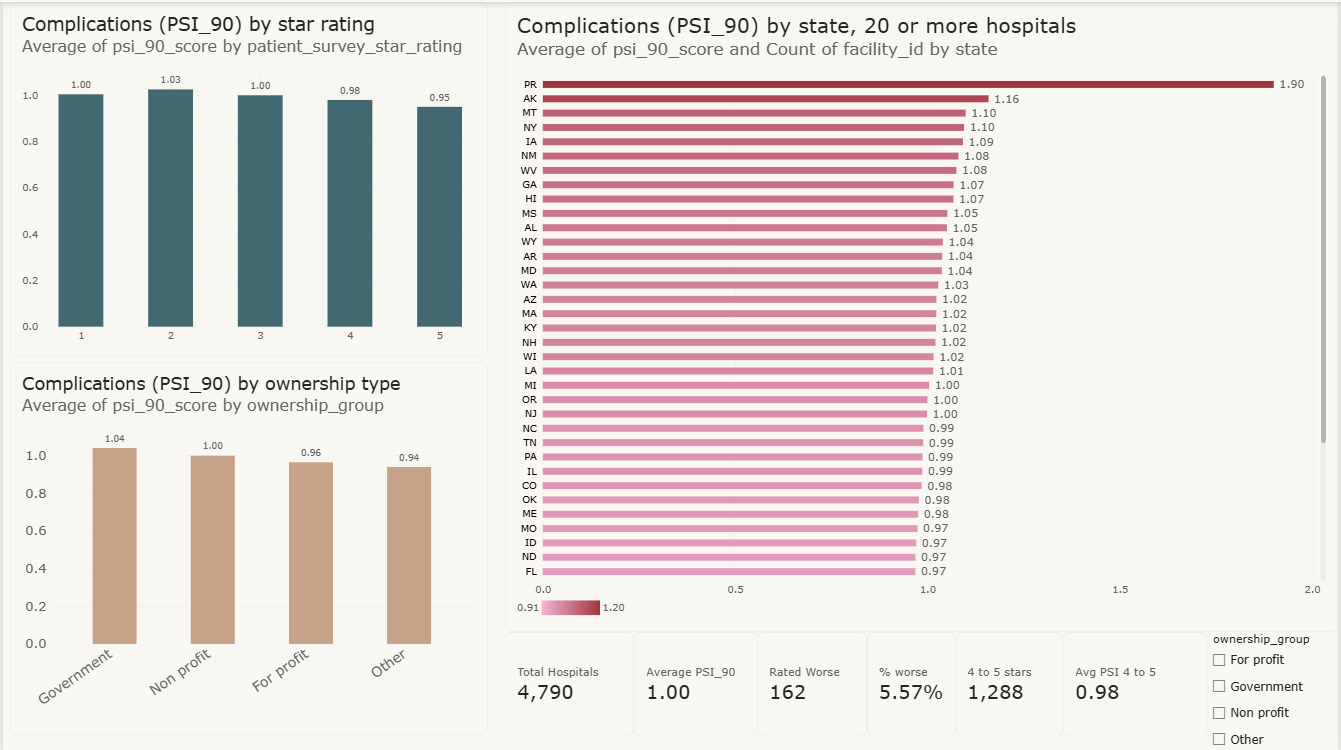

The dashboard page shown, as its layout file describes it:
{"tool":"powerbi","page":{"name":"Complications","canvas":[1920,1080],"ordinal":0},"visuals":[{"type":"clusteredColumnChart","title":"Complications (PSI_90) by star rating","fields":{"Category":["hospital_final csv.patient_survey_star_rating"],"Y":["Avg(hospital_final csv.psi_90_score)"]},"box":[11.3,0,686,510.2],"z":0},{"type":"clusteredColumnChart","title":"Complications (PSI_90) by ownership type","fields":{"Category":["hospital_final csv.ownership_group"],"Y":["Avg(hospital_final csv.psi_90_score)"]},"box":[11.3,518.7,686,535.8],"z":1000},{"type":"clusteredBarChart","title":"Complications (PSI_90) by state, 20 or more hospitals","fields":{"Category":["hospital_final csv.state"],"Y":["Avg(hospital_final csv.psi_90_score)"]},"box":[722.5,0,1197.5,905],"z":2000},{"type":"slicer","fields":{"Values":["hospital_final csv.ownership_group"]},"box":[1732.5,905,187.5,175],"z":3000},{"type":"cardVisual","fields":{"Data":["hospital_final csv.Total Hospitals Text"]},"box":[722.5,905,185,150],"z":4000},{"type":"cardVisual","fields":{"Data":["hospital_final csv.Average PSI Score"]},"box":[907.5,905,177.5,150],"z":5000},{"type":"cardVisual","fields":{"Data":["hospital_final csv.Worse Hospitals"]},"box":[1085,905,157.5,150],"z":6000},{"type":"cardVisual","fields":{"Data":["hospital_final csv.Pct Worse"]},"box":[1242.5,905,127.5,150],"z":7000},{"type":"cardVisual","fields":{"Data":["hospital_final csv.High Rated Text"]},"box":[1370,905,155,150],"z":8000},{"type":"cardVisual","fields":{"Data":["hospital_final csv.Avg PSI90 High Rated"]},"box":[1525,905,208,150],"z":9000}]}

Visuals, with their boxes in screenshot pixels (x1, y1, x2, y2), scaled from the page's 1920x1080 canvas onto the 1341x750 screenshot:
"Complications (PSI_90) by star rating" clusteredColumnChart: (8,0,487,354)
"Complications (PSI_90) by ownership type" clusteredColumnChart: (8,360,487,732)
"Complications (PSI_90) by state, 20 or more hospitals" clusteredBarChart: (505,0,1340,628)
slicer - hospital_final csv.ownership_group: (1210,628,1340,749)
cardVisual - hospital_final csv.Total Hospitals Text: (505,628,634,733)
cardVisual - hospital_final csv.Average PSI Score: (634,628,758,733)
cardVisual - hospital_final csv.Worse Hospitals: (758,628,868,733)
cardVisual - hospital_final csv.Pct Worse: (868,628,957,733)
cardVisual - hospital_final csv.High Rated Text: (957,628,1065,733)
cardVisual - hospital_final csv.Avg PSI90 High Rated: (1065,628,1210,733)
